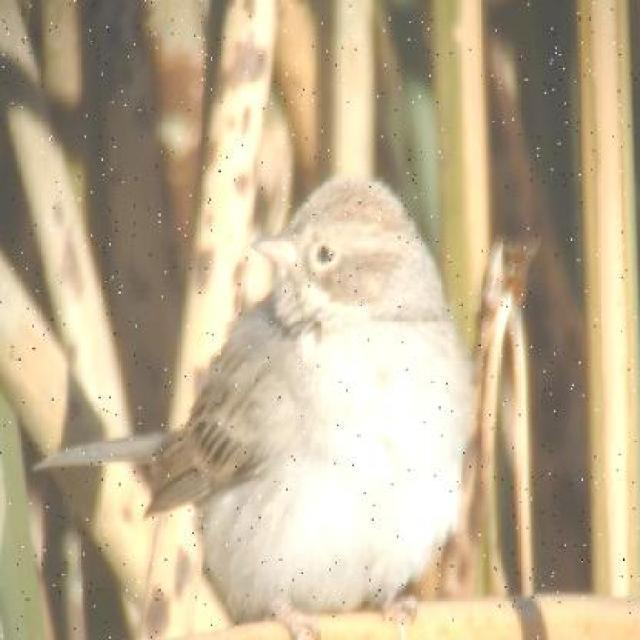Bird: (129, 159, 510, 594)
